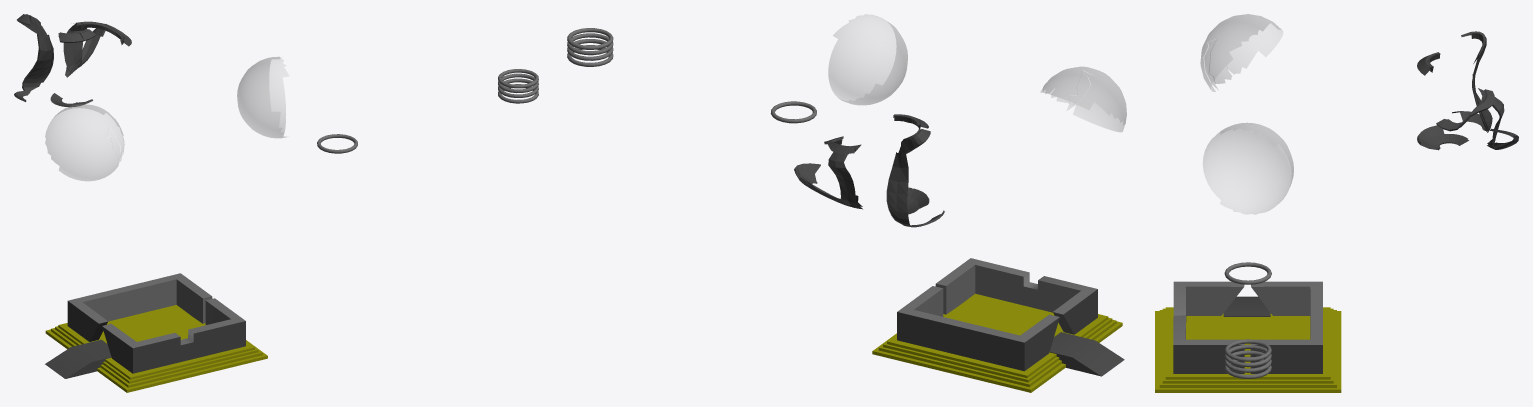
Rendered from Ruins.fbx.
3 renders of one model, left to right at view 1: azimuth 30°, elevation 25°; view 2: azimuth 150°, elevation 25°; view 3: azimuth 270°, elevation 25°, orthographic. The views are drawn at different scales.
Parts seen in each view (by area): view 1: polySurface16, polySurface13, polySurface17, polySurface12, polySurface15, polySurface5, polySurface6, polySurface20, polySurface19, polySurface18; view 2: polySurface16, polySurface12, polySurface17, polySurface13, polySurface15, polySurface5, polySurface6, polySurface20, polySurface19, polySurface18; view 3: polySurface16, polySurface12, polySurface17, polySurface13, polySurface20, polySurface19, polySurface18, polySurface6, polySurface5, polySurface15, polySurface9, pTorus1 (+3 smaller).
Part boxes in pixels (bbox=[...]): polySurface16: bbox=[67, 273, 245, 373]; polySurface13: bbox=[45, 104, 124, 180]; polySurface17: bbox=[58, 305, 254, 379]; polySurface12: bbox=[237, 56, 288, 138]; polySurface15: bbox=[45, 339, 111, 378]; polySurface5: bbox=[14, 14, 53, 101]; polySurface6: bbox=[63, 21, 131, 77]; polySurface20: bbox=[45, 329, 267, 392]; polySurface19: bbox=[51, 328, 262, 387]; polySurface18: bbox=[55, 326, 258, 383]; polySurface16: bbox=[897, 258, 1097, 371]; polySurface12: bbox=[828, 14, 907, 105]; polySurface17: bbox=[887, 293, 1108, 377]; polySurface13: bbox=[1041, 66, 1126, 131]; polySurface15: bbox=[1049, 332, 1124, 376]; polySurface5: bbox=[886, 129, 944, 227]; polySurface6: bbox=[794, 136, 862, 209]; polySurface20: bbox=[872, 321, 1122, 392]; polySurface19: bbox=[878, 319, 1116, 387]; polySurface18: bbox=[883, 317, 1112, 382]; polySurface16: bbox=[1173, 281, 1322, 373]; polySurface12: bbox=[1203, 122, 1293, 214]; polySurface17: bbox=[1165, 307, 1330, 379]; polySurface13: bbox=[1200, 14, 1282, 91]; polySurface20: bbox=[1155, 311, 1341, 392]; polySurface19: bbox=[1159, 310, 1336, 387]; polySurface18: bbox=[1162, 308, 1333, 383]; polySurface6: bbox=[1436, 88, 1518, 149]; polySurface5: bbox=[1452, 31, 1492, 132]; polySurface15: bbox=[1223, 296, 1270, 316]; polySurface9: bbox=[1417, 125, 1468, 150]; pTorus1: bbox=[1224, 262, 1271, 284].
Size of the model in its own units: 109 by 56.56 by 61.12.
